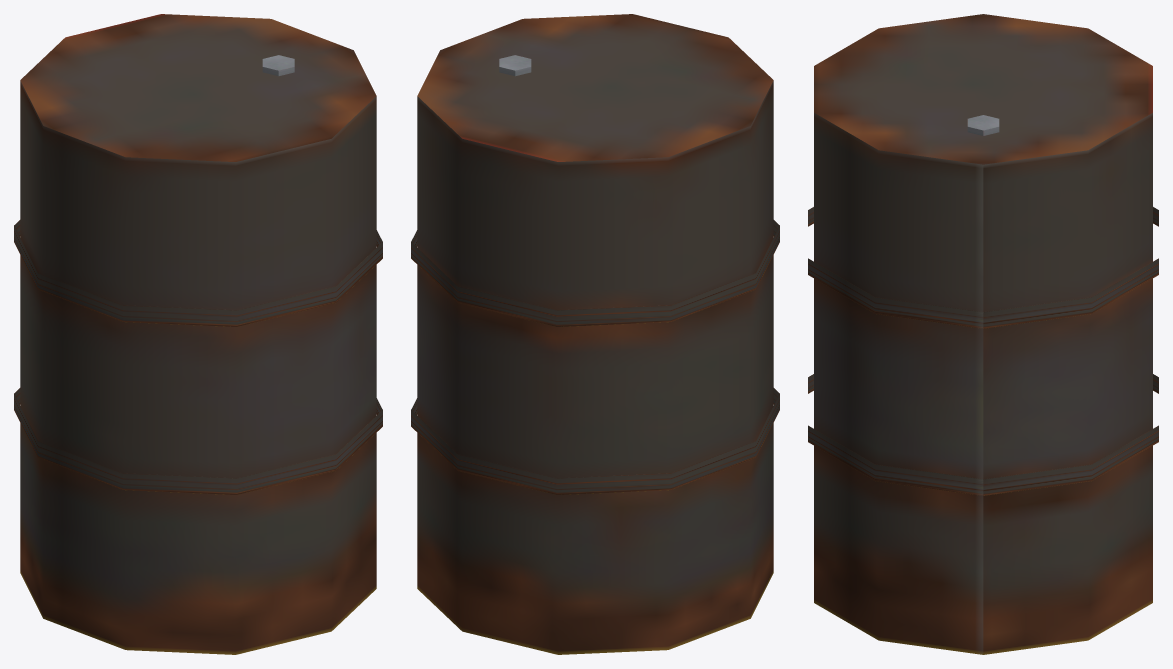
Rendered from oil_drum_rusted.obj.
The picture shows the model from 3 angles, left to right: view 1: azimuth 30°, elevation 25°; view 2: azimuth 150°, elevation 25°; view 3: azimuth 270°, elevation 25°; orthographic projection.
Visible parts, largest first — view 1: oil_drum_rusted; view 2: oil_drum_rusted; view 3: oil_drum_rusted.
Boxes of the visible parts, x1,y1,x2,y2 form: oil_drum_rusted: (14, 14, 382, 654); oil_drum_rusted: (411, 14, 779, 654); oil_drum_rusted: (808, 14, 1158, 654).
Bounding box in the file's own units: 0.6 × 0.89 × 0.5706.
1 material, 1 textured.
